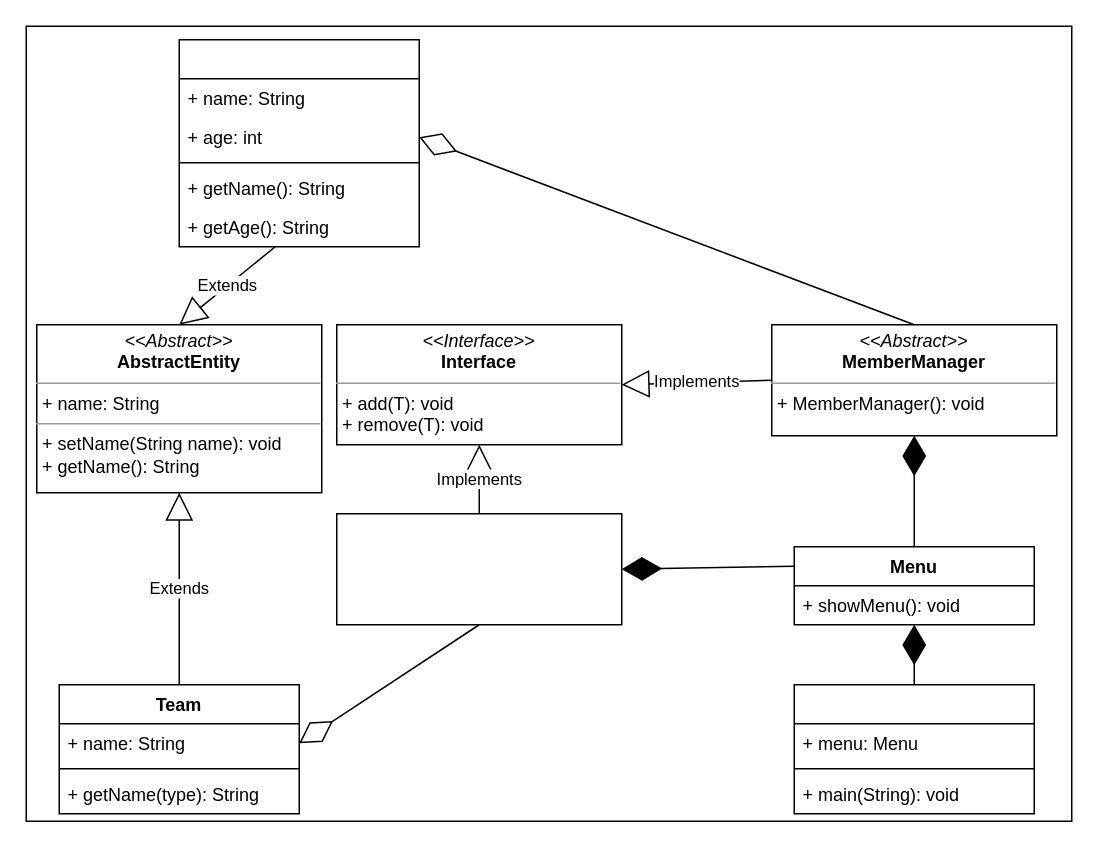
Some shapes in this 1098 by 848 pixel diagram are drawn without their labels. The box of each missing label's shape, as (x1, y1, x2, y2) in pixels:
<<Abstract>> TeamManager + TeamManager(): void: (335, 512, 622, 625)
Member: (178, 38, 419, 247)
Volleyball Club: (793, 683, 1034, 814)
